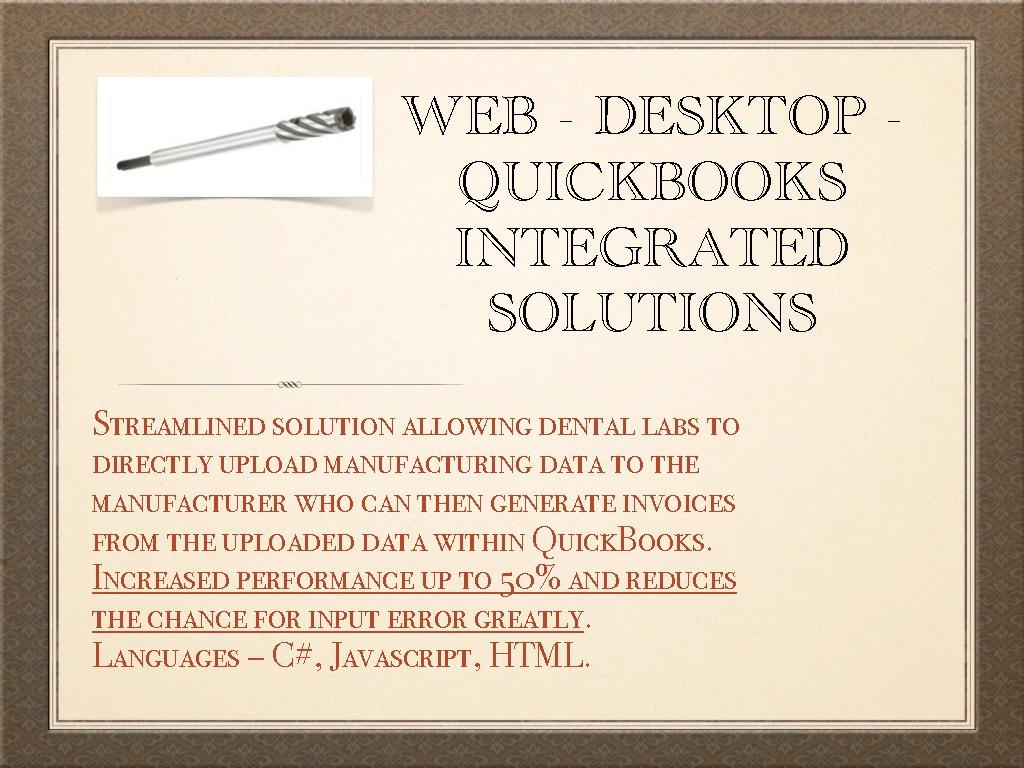paragraph: (73, 392, 874, 694)
title: (398, 76, 882, 356)
